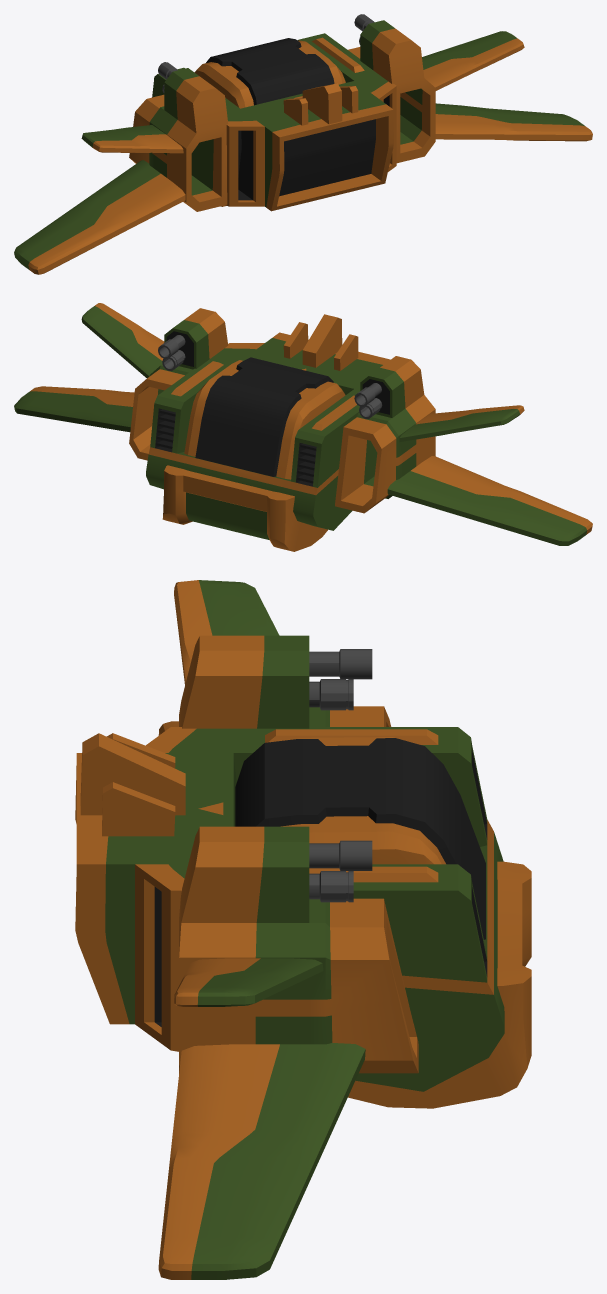
File: Spaceship3.glb
3 views of the same model, one above another, from view 1: azimuth 30°, elevation 25°; view 2: azimuth 150°, elevation 25°; view 3: azimuth 270°, elevation 25° (orthographic). The views are drawn at different scales.
Visible parts, largest first — view 1: node_id5; view 2: node_id5; view 3: node_id5.
Boxes of the visible parts, <box> form: node_id5: <box>14,14,592,274</box>; node_id5: <box>14,303,592,551</box>; node_id5: <box>75,580,531,1279</box>.
Size of the model in its own units: 0.512 by 0.1347 by 0.181.
1 material, 1 textured.
